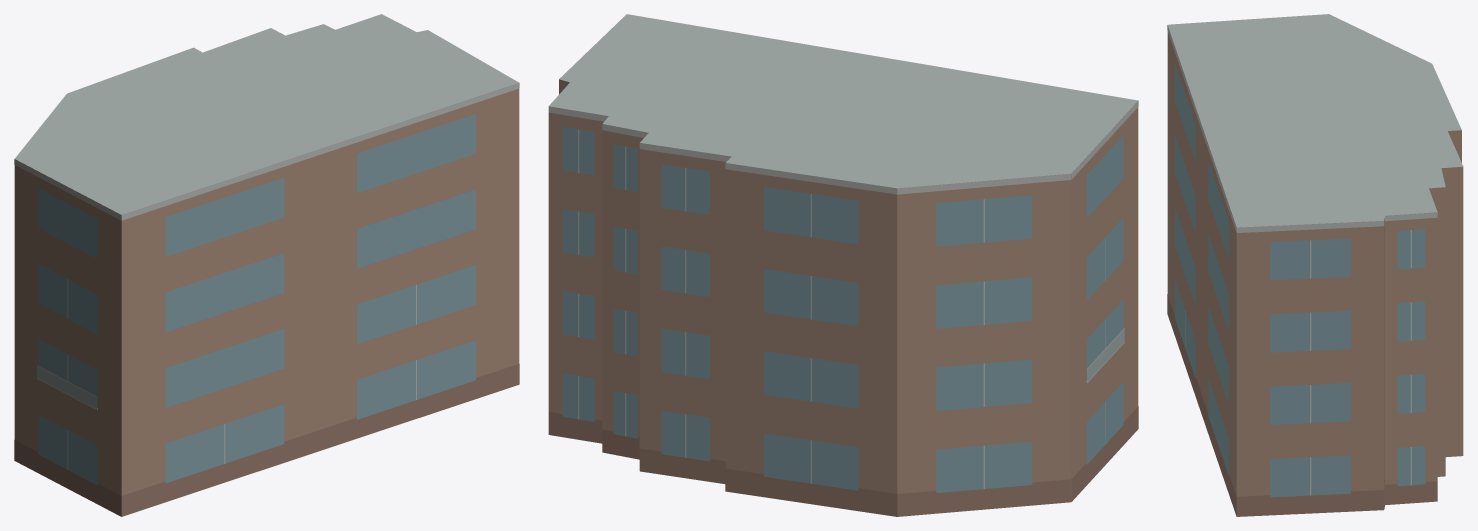
The model's file is survey-upis-32742519.glb.
3 renders of one model, left to right at view 1: azimuth 30°, elevation 25°; view 2: azimuth 150°, elevation 25°; view 3: azimuth 270°, elevation 25°, orthographic. The views are drawn at different scales.
Visible parts, largest first — view 1: survey-upis-32742519.tmp; view 2: survey-upis-32742519.tmp; view 3: survey-upis-32742519.tmp.
Boxes of the visible parts, x1=… form: survey-upis-32742519.tmp: x1=14, y1=14, x2=519, y2=516; survey-upis-32742519.tmp: x1=548, y1=14, x2=1138, y2=516; survey-upis-32742519.tmp: x1=1167, y1=14, x2=1463, y2=516.
Size of the model in its own units: 20.28 by 12.8 by 11.88.
